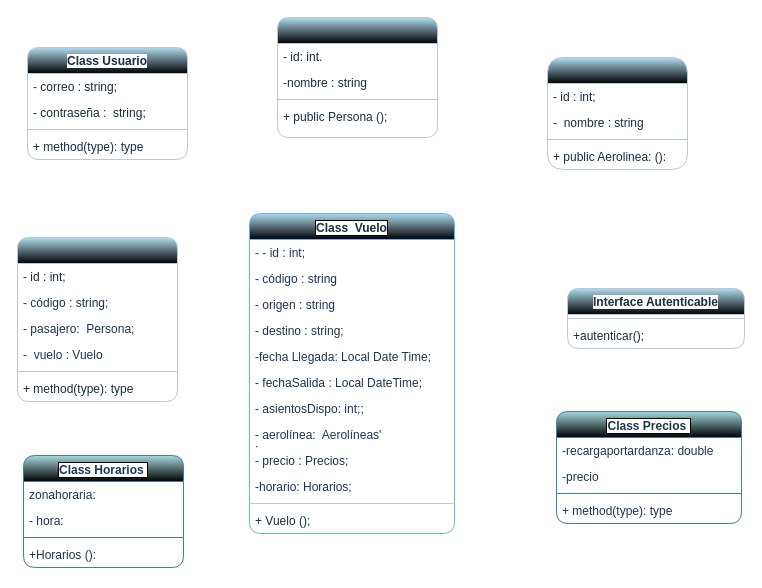
The diagram is 762 pixels wide and 588 high, and some of its shapes have lost their labels. The box of each missing label's shape, as (x1, y1, x2, y2) in pixels:
clase Persona: (276, 16, 438, 138)
Class Aerolíneas: (546, 56, 688, 170)
Class Reserva: (16, 236, 178, 402)
